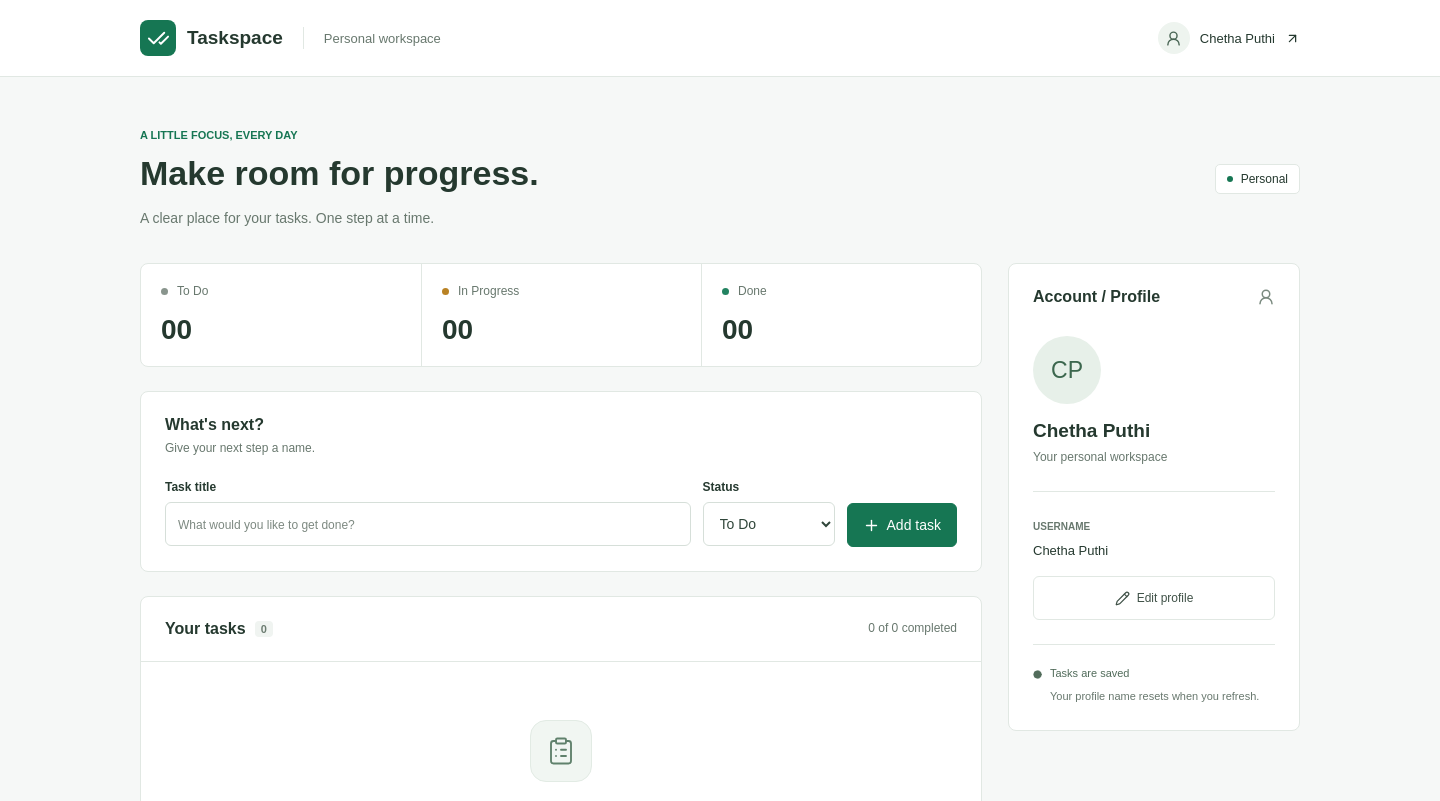
Test: Todo workspace › preserves the draft after a failed create
Expected: the button "Add task" is enabled, [846,503,957,547]
Click the field labelled "Task title" at (428, 524), box [165,502,690,546]
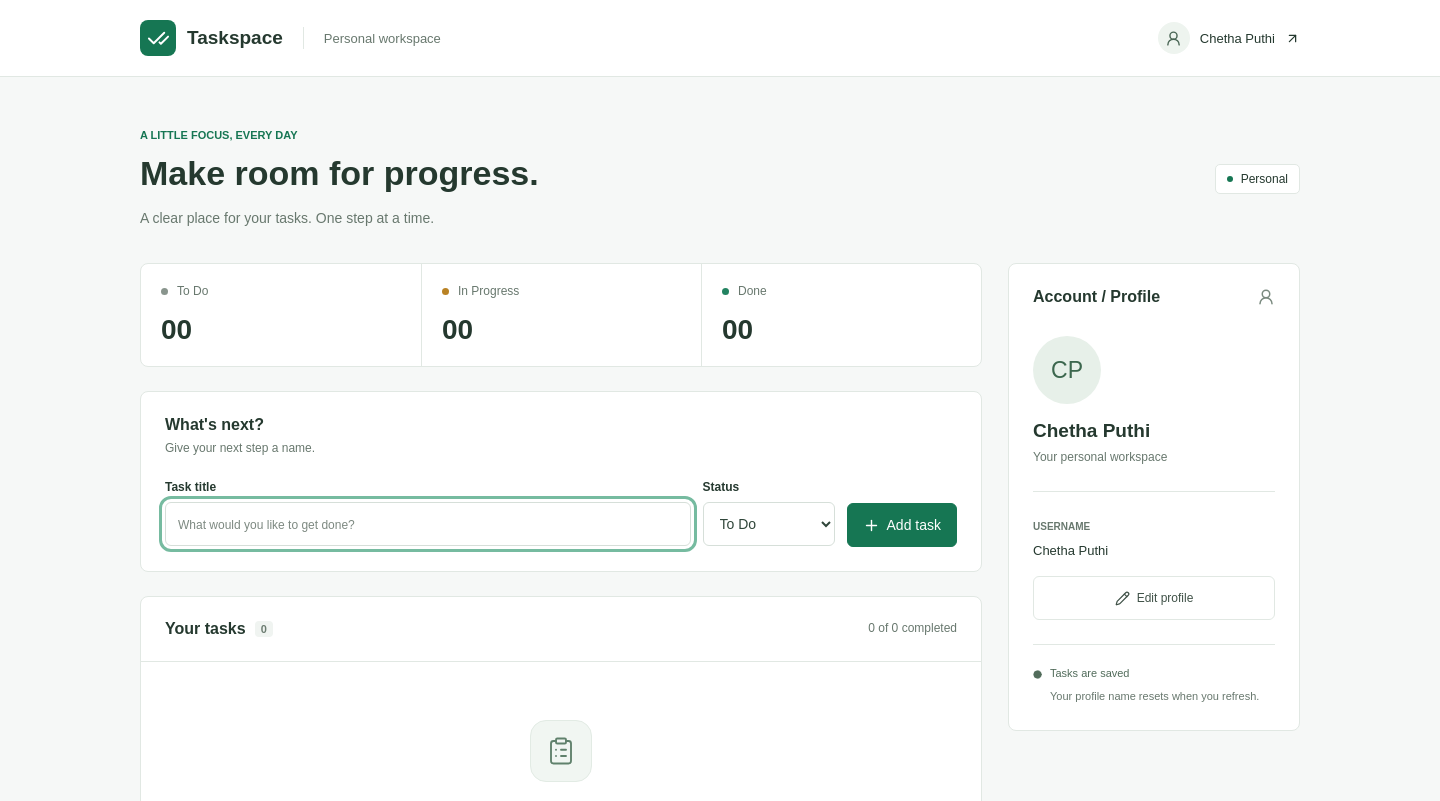
Type keys "Keep this draft"
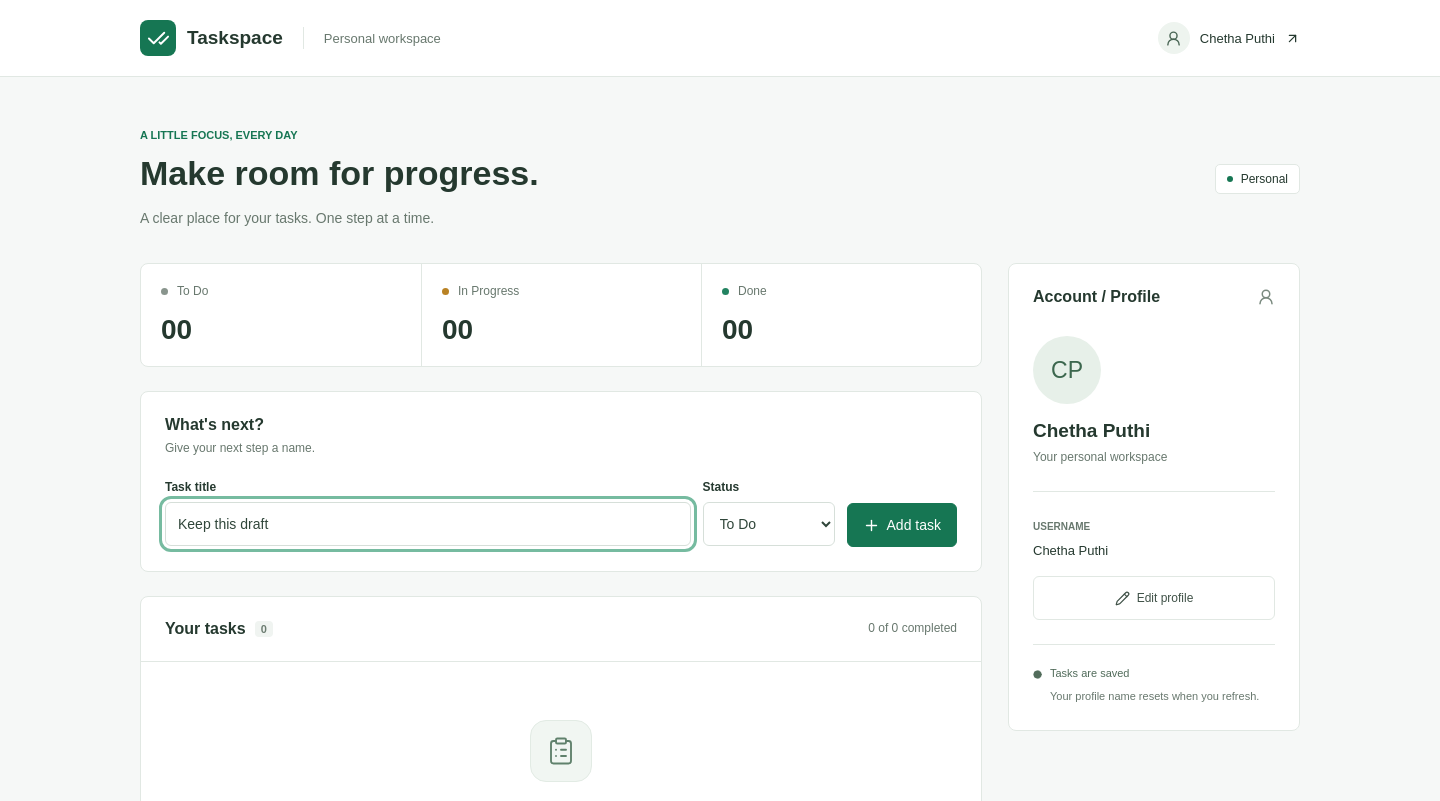
Select "In Progress" in the dropdown labelled "Status" at (768, 524), box [702,502,834,546]
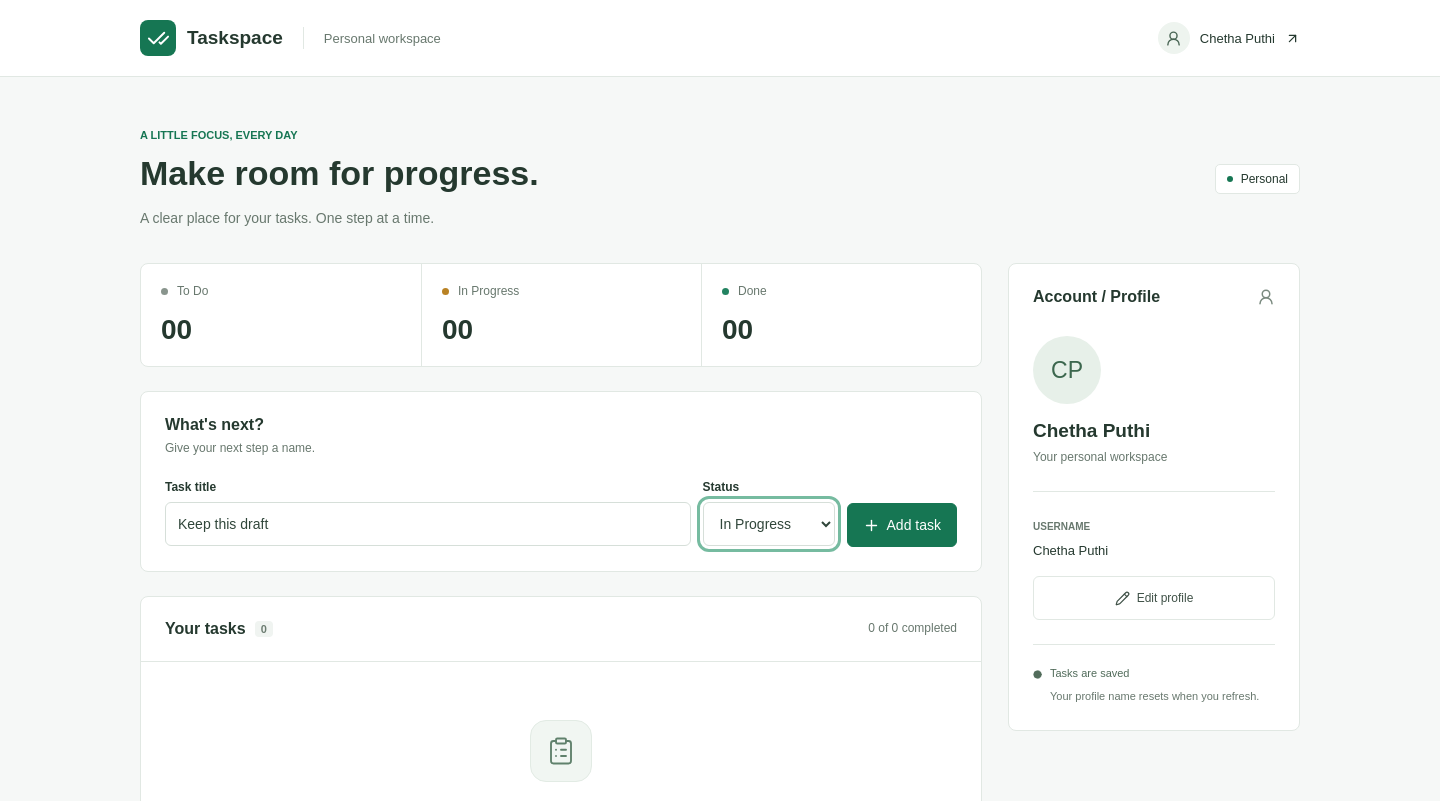
Click the button "Add task" at (902, 525), box [846,503,957,547]
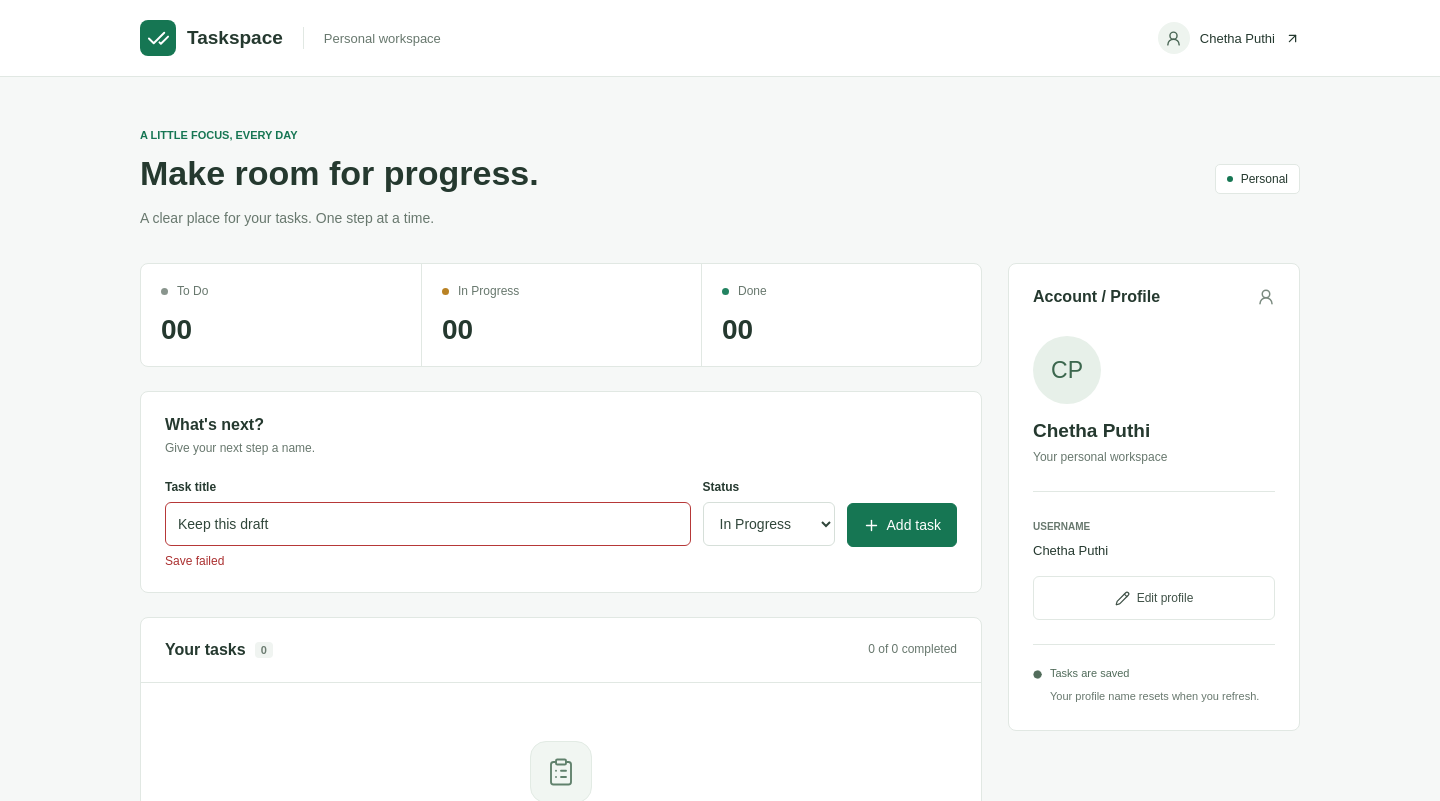
Result: the field labelled "Task title" holds "Keep this draft" at [165,502,690,546]
Result: the message reads "Save failed" at [165,554,224,568]
